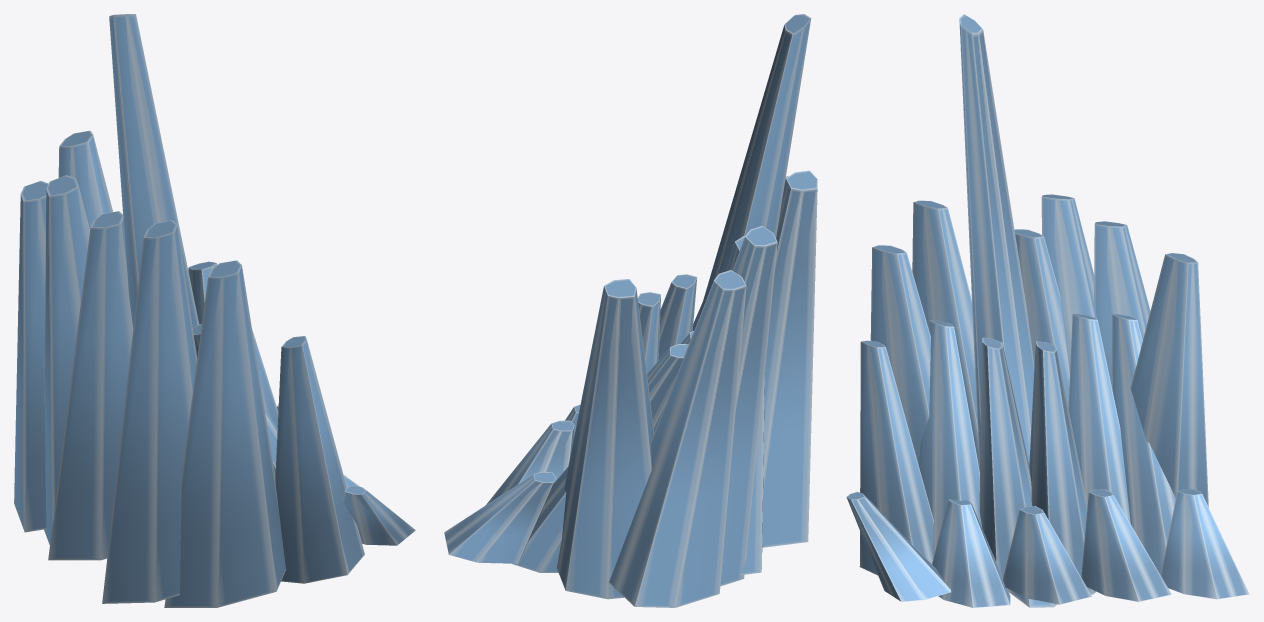
File: wall_spike_02.fbx
3 renders of one model, left to right at view 1: azimuth 30°, elevation 25°; view 2: azimuth 150°, elevation 25°; view 3: azimuth 270°, elevation 25°, orthographic. The views are drawn at different scales.
Visible parts, largest first — view 1: wall_spike_02; view 2: wall_spike_02; view 3: wall_spike_02.
Boxes of the visible parts, x1,y1,x2,y2 form: wall_spike_02: (14, 14, 415, 607); wall_spike_02: (444, 14, 817, 607); wall_spike_02: (846, 14, 1249, 607).
Bounding box in the file's own units: 0.885 × 1.83 × 1.26.
Materials: 1 (1 with a texture image).
